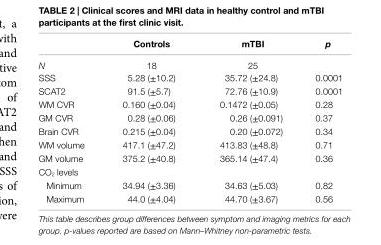table: (37, 37, 341, 205)
table column: (196, 37, 298, 205), (102, 37, 196, 205), (37, 37, 102, 205), (298, 37, 341, 205)
table column header: (37, 37, 341, 53)
table projected row header: (37, 165, 341, 177)
table row: (37, 53, 341, 70), (37, 37, 341, 53), (37, 177, 341, 192), (37, 70, 341, 84), (37, 97, 341, 111), (37, 124, 341, 138), (37, 151, 341, 165), (37, 84, 341, 97), (37, 111, 341, 124), (37, 138, 341, 151), (37, 192, 341, 205), (37, 165, 341, 177)
